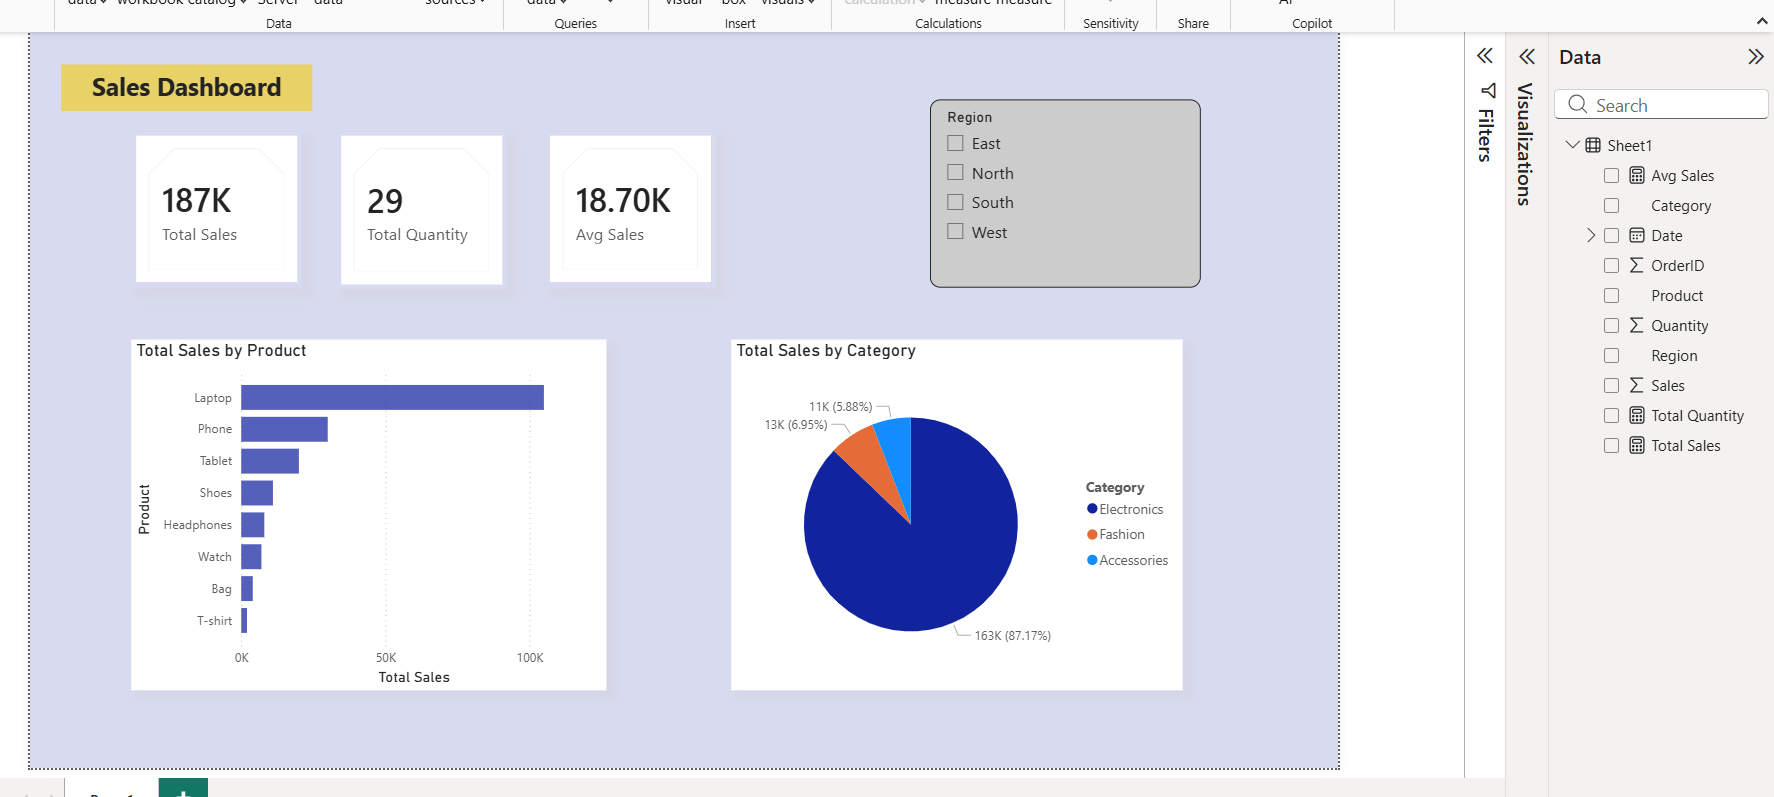

What the dashboard file says about the page in this screenshot:
{"tool":"powerbi","page":{"name":"Page 1","canvas":[1280,720],"ordinal":0},"visuals":[{"type":"cardVisual","fields":{"Data":["Sheet1.Total Sales"]},"box":[98.8,96.1,167.4,153.7],"z":0},{"type":"cardVisual","fields":{"Data":["Sheet1.Total Quantity"]},"box":[299.1,96.1,167.4,155.1],"z":1000},{"type":"cardVisual","fields":{"Data":["Sheet1.Avg Sales"]},"box":[503.6,96.1,167.4,153.7],"z":2000},{"type":"textbox","box":[30.2,31.6,245.6,45.3],"z":3000},{"type":"barChart","fields":{"Category":["Sheet1.Product"],"Y":["Sheet1.Total Sales"]},"box":[98.8,300.5,465.2,343.1],"z":4000},{"type":"pieChart","fields":{"Category":["Sheet1.Category"],"Y":["Sheet1.Total Sales"]},"box":[686.1,300.5,441.9,343.1],"z":5000},{"type":"slicer","fields":{"Values":["Sheet1.Region"]},"box":[881,65.9,264.8,183.9],"z":6000}]}

Visuals, with their boxes on the page's 1280x720 design canvas (x1, y1, x2, y2). These are canvas units, not pixel positions in the 1774x797 screenshot, which may show the page scaled, cropped or inside an application window:
cardVisual - Sheet1.Total Sales: (x1=99, y1=96, x2=266, y2=250)
cardVisual - Sheet1.Total Quantity: (x1=299, y1=96, x2=466, y2=251)
cardVisual - Sheet1.Avg Sales: (x1=504, y1=96, x2=671, y2=250)
textbox: (x1=30, y1=32, x2=276, y2=77)
barChart - Sheet1.Product x Sheet1.Total Sales: (x1=99, y1=300, x2=564, y2=644)
pieChart - Sheet1.Category x Sheet1.Total Sales: (x1=686, y1=300, x2=1128, y2=644)
slicer - Sheet1.Region: (x1=881, y1=66, x2=1146, y2=250)
